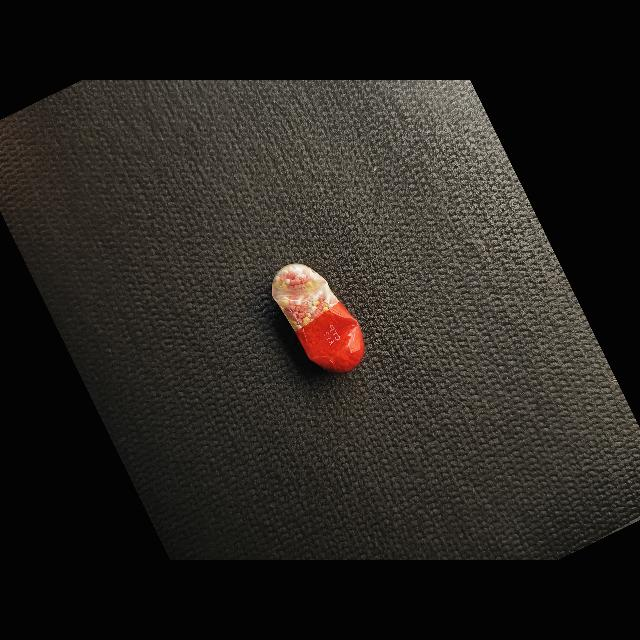Defective Capsule: (272, 264, 364, 373)
